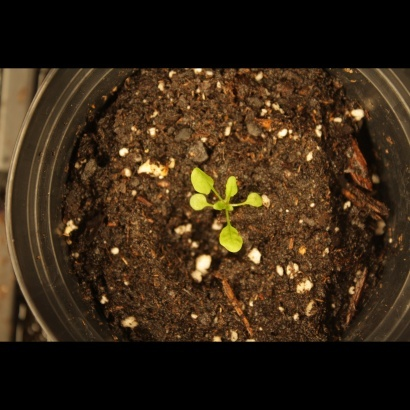leaf: (213, 221, 250, 260), (187, 161, 216, 195), (220, 173, 244, 199), (186, 193, 209, 216), (246, 189, 269, 212)
